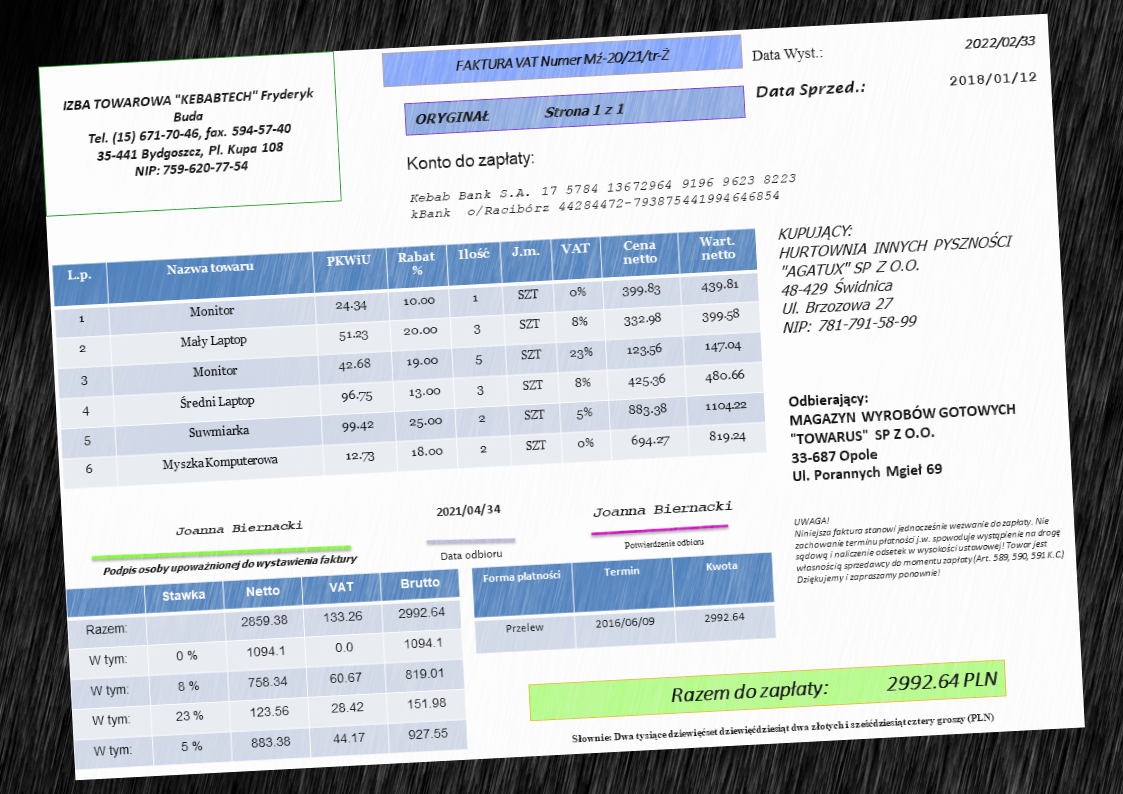Table: (50, 227, 768, 490), (66, 567, 470, 770), (471, 552, 777, 655)
TextBox: (775, 212, 1019, 337), (61, 85, 320, 184), (786, 381, 1021, 487), (792, 500, 1068, 587), (408, 170, 800, 223), (569, 710, 996, 747), (668, 668, 1000, 709), (100, 550, 357, 579), (453, 46, 672, 75), (413, 99, 628, 127), (404, 147, 537, 176), (590, 498, 734, 521), (754, 76, 866, 103), (174, 518, 304, 539), (946, 67, 1039, 89), (960, 32, 1039, 53), (433, 500, 503, 522), (749, 44, 824, 64), (623, 535, 706, 551), (438, 547, 503, 563)
